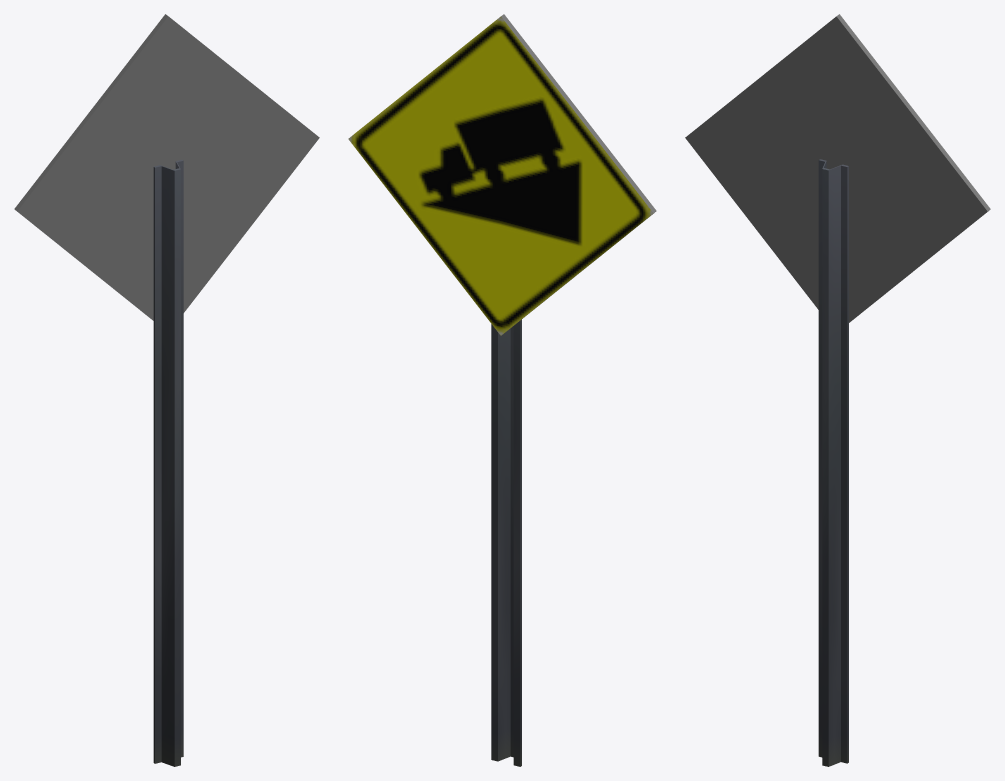
The model's file is warning_steep.obj.
The picture shows the model from 3 angles, left to right: view 1: azimuth 30°, elevation 25°; view 2: azimuth 150°, elevation 25°; view 3: azimuth 330°, elevation 25°; orthographic projection.
Visible parts, largest first — view 1: Mesh; view 2: Mesh; view 3: Mesh.
Boxes of the visible parts, left/top/right/bottom form: Mesh: left=14, top=14, right=319, bottom=766; Mesh: left=348, top=14, right=656, bottom=766; Mesh: left=685, top=14, right=990, bottom=766.
Size of the model in its own units: 0.2382 by 0.5585 by 0.0181.
